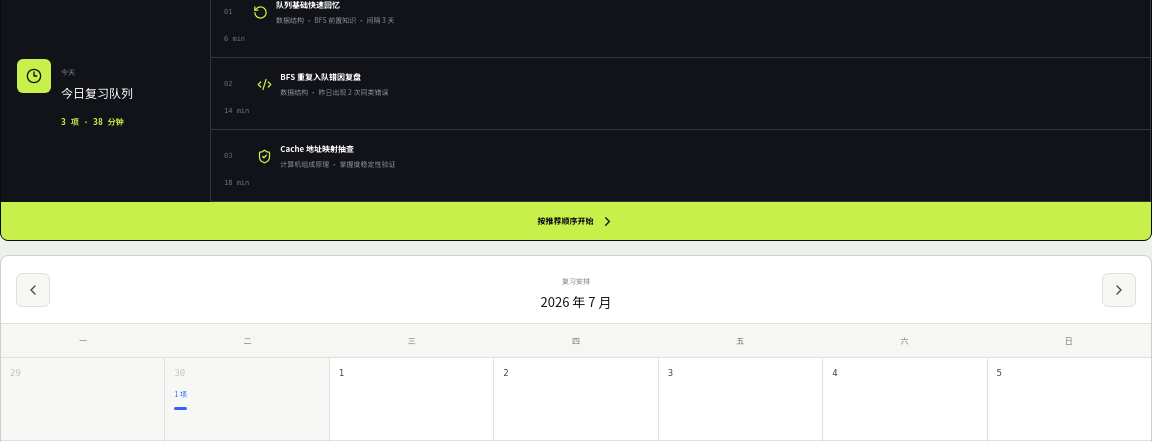
Test: ReviewPage › moves between months and loads that month's review tasks
Step 1. Click the button named "下个月" → (1119, 290), box top-left (1102, 272), bottom-right (1136, 306)
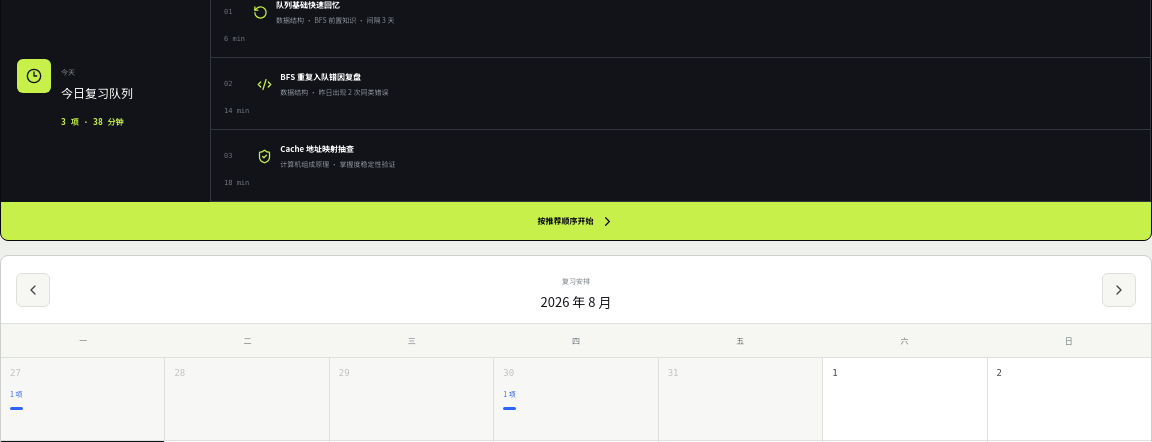
Expected: the heading "2026 年 8 月" is shown, top-left (541, 292), bottom-right (611, 311)
Step 2. Click the button named "上个月" → (33, 290), box top-left (16, 272), bottom-right (50, 306)
(page scrolled)
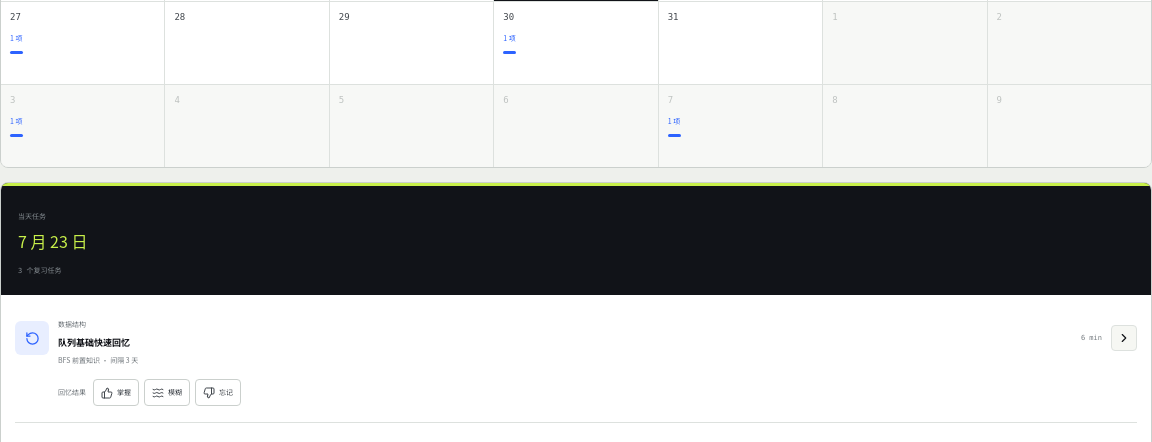
Expected: the heading "7 月 23 日" is shown, top-left (18, 229), bottom-right (87, 253)
